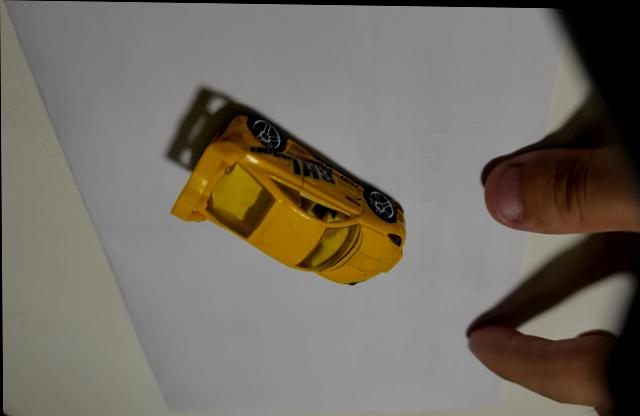07_RHLTURBO: (171, 111, 407, 283)
